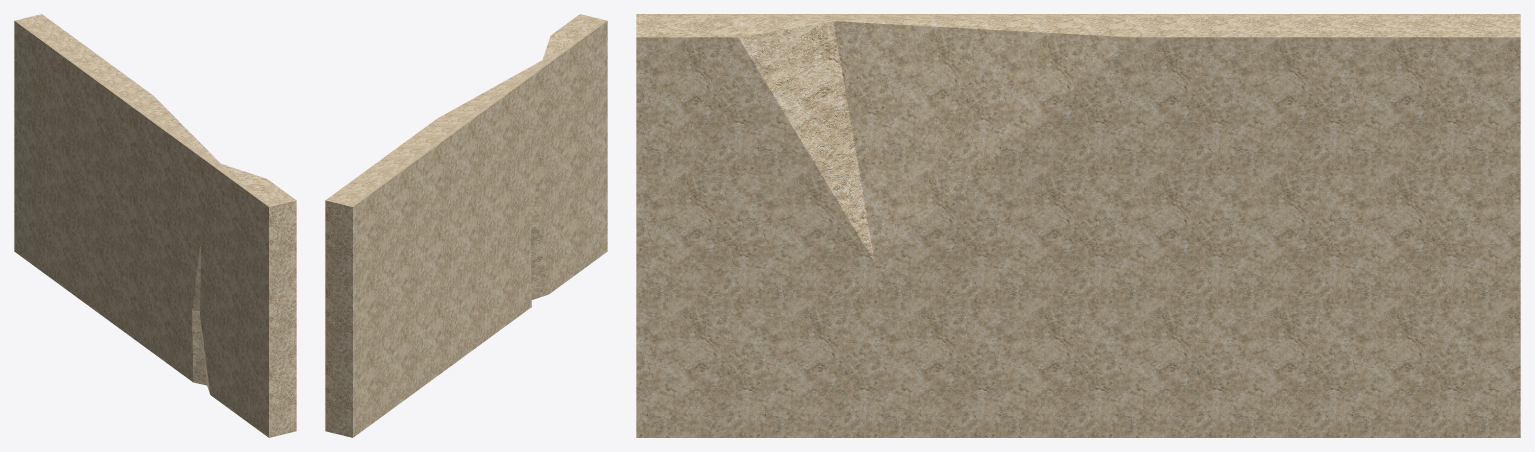
The model's file is thm_tato_imprv_wall_damaged_s01_l2.fbx.
3 renders of one model, left to right at view 1: azimuth 30°, elevation 25°; view 2: azimuth 150°, elevation 25°; view 3: azimuth 270°, elevation 25°, orthographic. The views are drawn at different scales.
Visible parts, largest first — view 1: mesh_node; view 2: mesh_node; view 3: mesh_node.
Part boxes in pixels (left/top/right/bottom): mesh_node: left=14, top=14, right=296, bottom=437; mesh_node: left=325, top=14, right=607, bottom=437; mesh_node: left=636, top=14, right=1520, bottom=437.
Size of the model in its own units: 0.5 by 4 by 8.
